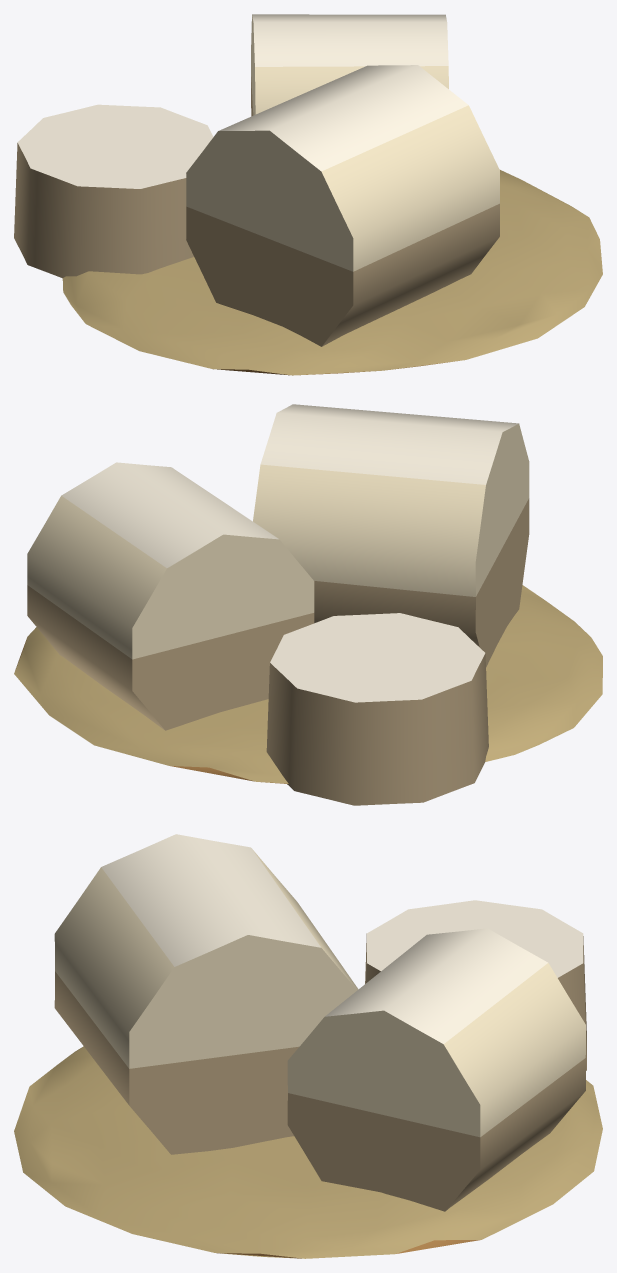
File: FallenDrums.fbx
3 views of the same model, one above another, from view 1: azimuth 30°, elevation 25°; view 2: azimuth 150°, elevation 25°; view 3: azimuth 270°, elevation 25° (orthographic). The views are drawn at different scales.
Visible parts, largest first — view 1: FallenDrums; view 2: FallenDrums; view 3: FallenDrums.
Boxes of the visible parts, x1,y1,x2,y2 form: FallenDrums: (14,14,602,375); FallenDrums: (14,404,602,805); FallenDrums: (14,834,602,1258).
Size of the model in its own units: 1.59 by 0.68 by 1.5.
Materials: 1 (1 with a texture image).
